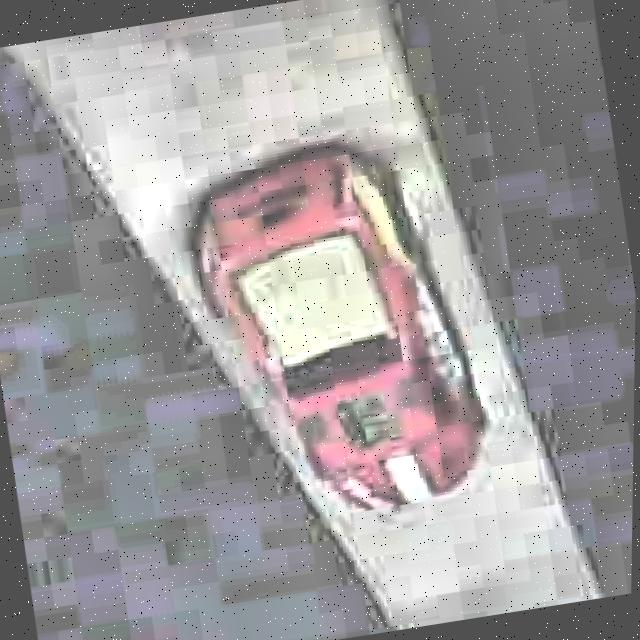car: (165, 121, 505, 538)
